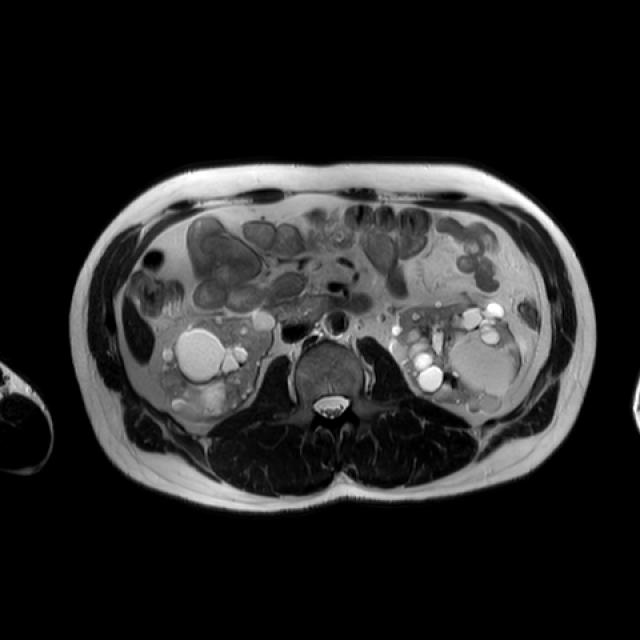sag: (157, 308, 279, 423)
sol: (388, 299, 522, 412)
